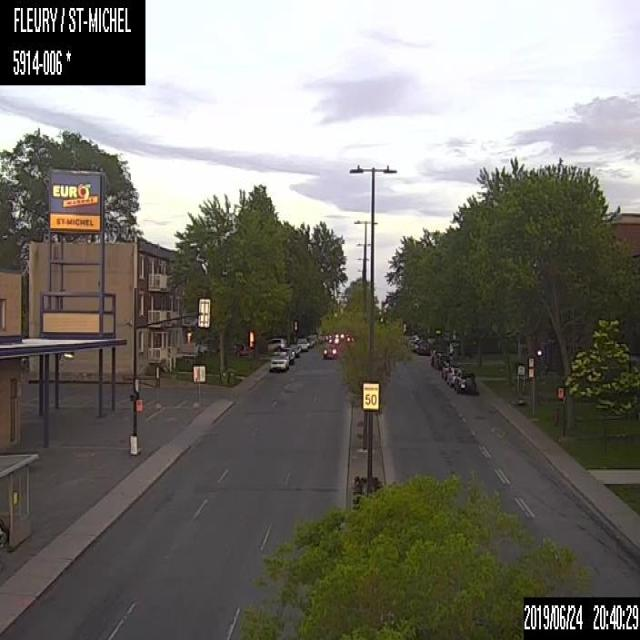vehicle: (453, 371, 478, 394), (269, 350, 289, 371), (444, 366, 462, 386), (266, 336, 284, 352), (321, 343, 340, 358), (441, 360, 456, 379), (433, 352, 449, 369), (283, 346, 294, 364), (416, 340, 429, 354), (296, 336, 308, 351), (290, 343, 300, 357), (407, 338, 417, 351), (306, 335, 314, 347)
